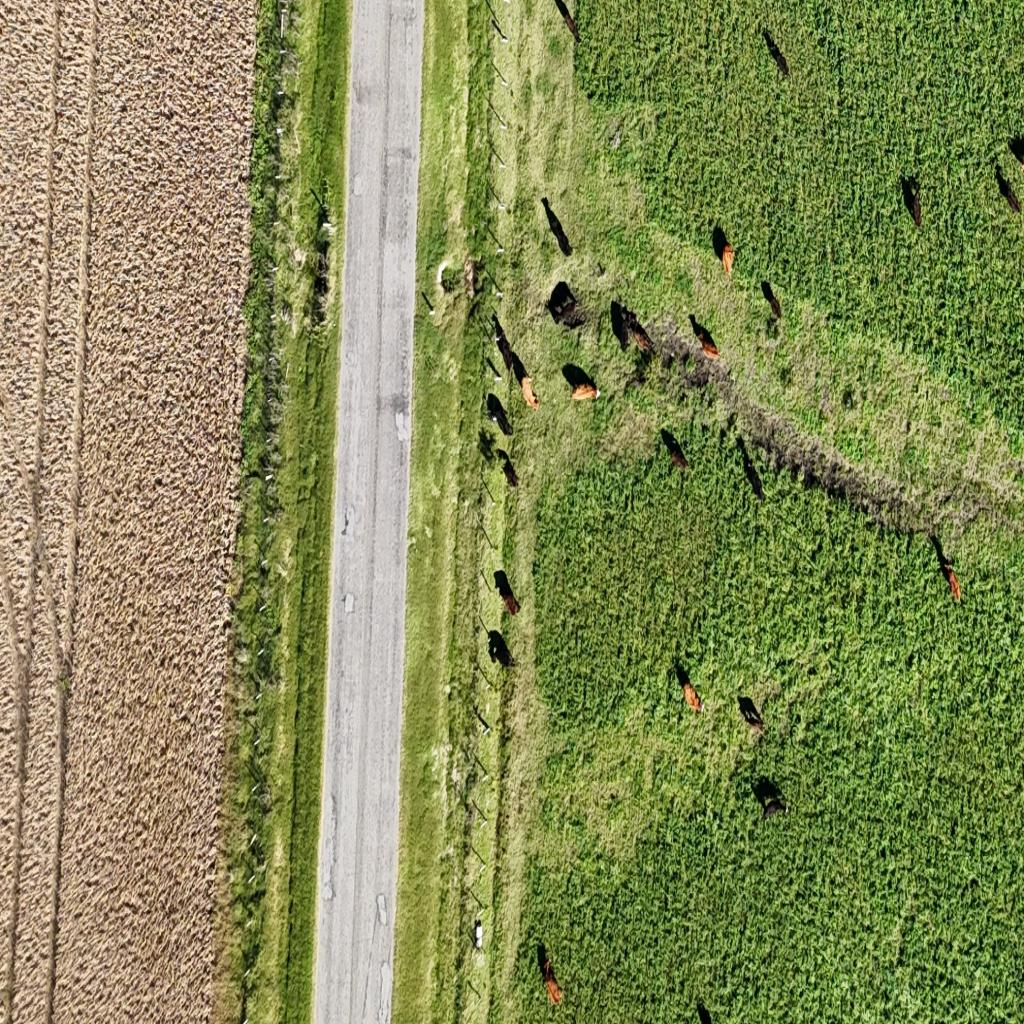cow: (499, 319, 538, 411), (610, 304, 651, 362), (930, 532, 960, 602), (542, 196, 574, 256), (676, 659, 706, 717), (753, 772, 788, 821), (547, 281, 581, 329), (538, 945, 564, 1007), (492, 313, 517, 376), (563, 364, 601, 404), (690, 314, 721, 362), (660, 428, 690, 474), (550, 0, 580, 43), (486, 393, 514, 439), (1003, 136, 1024, 196), (737, 692, 767, 734), (493, 569, 520, 615), (712, 226, 736, 276), (900, 174, 922, 228), (764, 32, 789, 79), (487, 629, 514, 669), (742, 451, 763, 502), (761, 278, 782, 322), (500, 454, 519, 489), (696, 999, 714, 1024)
